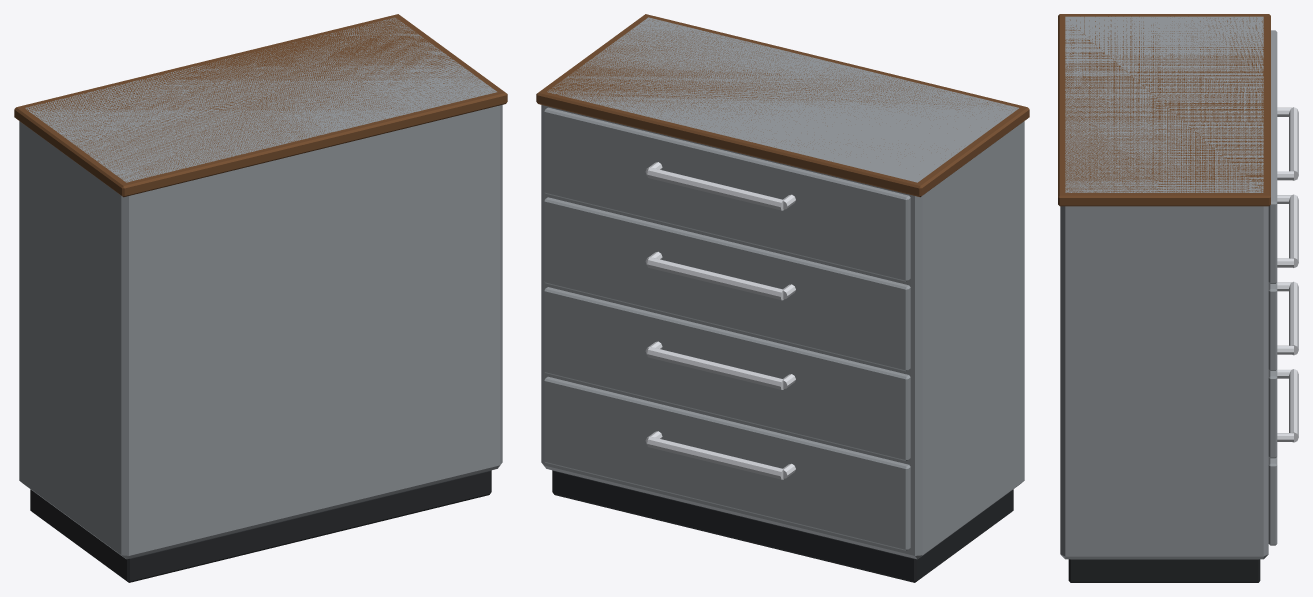
File: drawer_unit.glb
3 views of the same model, side by side, from view 1: azimuth 30°, elevation 25°; view 2: azimuth 150°, elevation 25°; view 3: azimuth 270°, elevation 25° (orthographic). The views are drawn at different scales.
Visible parts, largest first — view 1: drawer_unit; view 2: drawer_unit; view 3: drawer_unit.
Part boxes in pixels (left/top/right/bottom): drawer_unit: left=14, top=14, right=507, bottom=582; drawer_unit: left=536, top=14, right=1029, bottom=582; drawer_unit: left=1058, top=14, right=1298, bottom=582.
Size of the model in its own units: 0.9 by 0.9 by 0.5.
